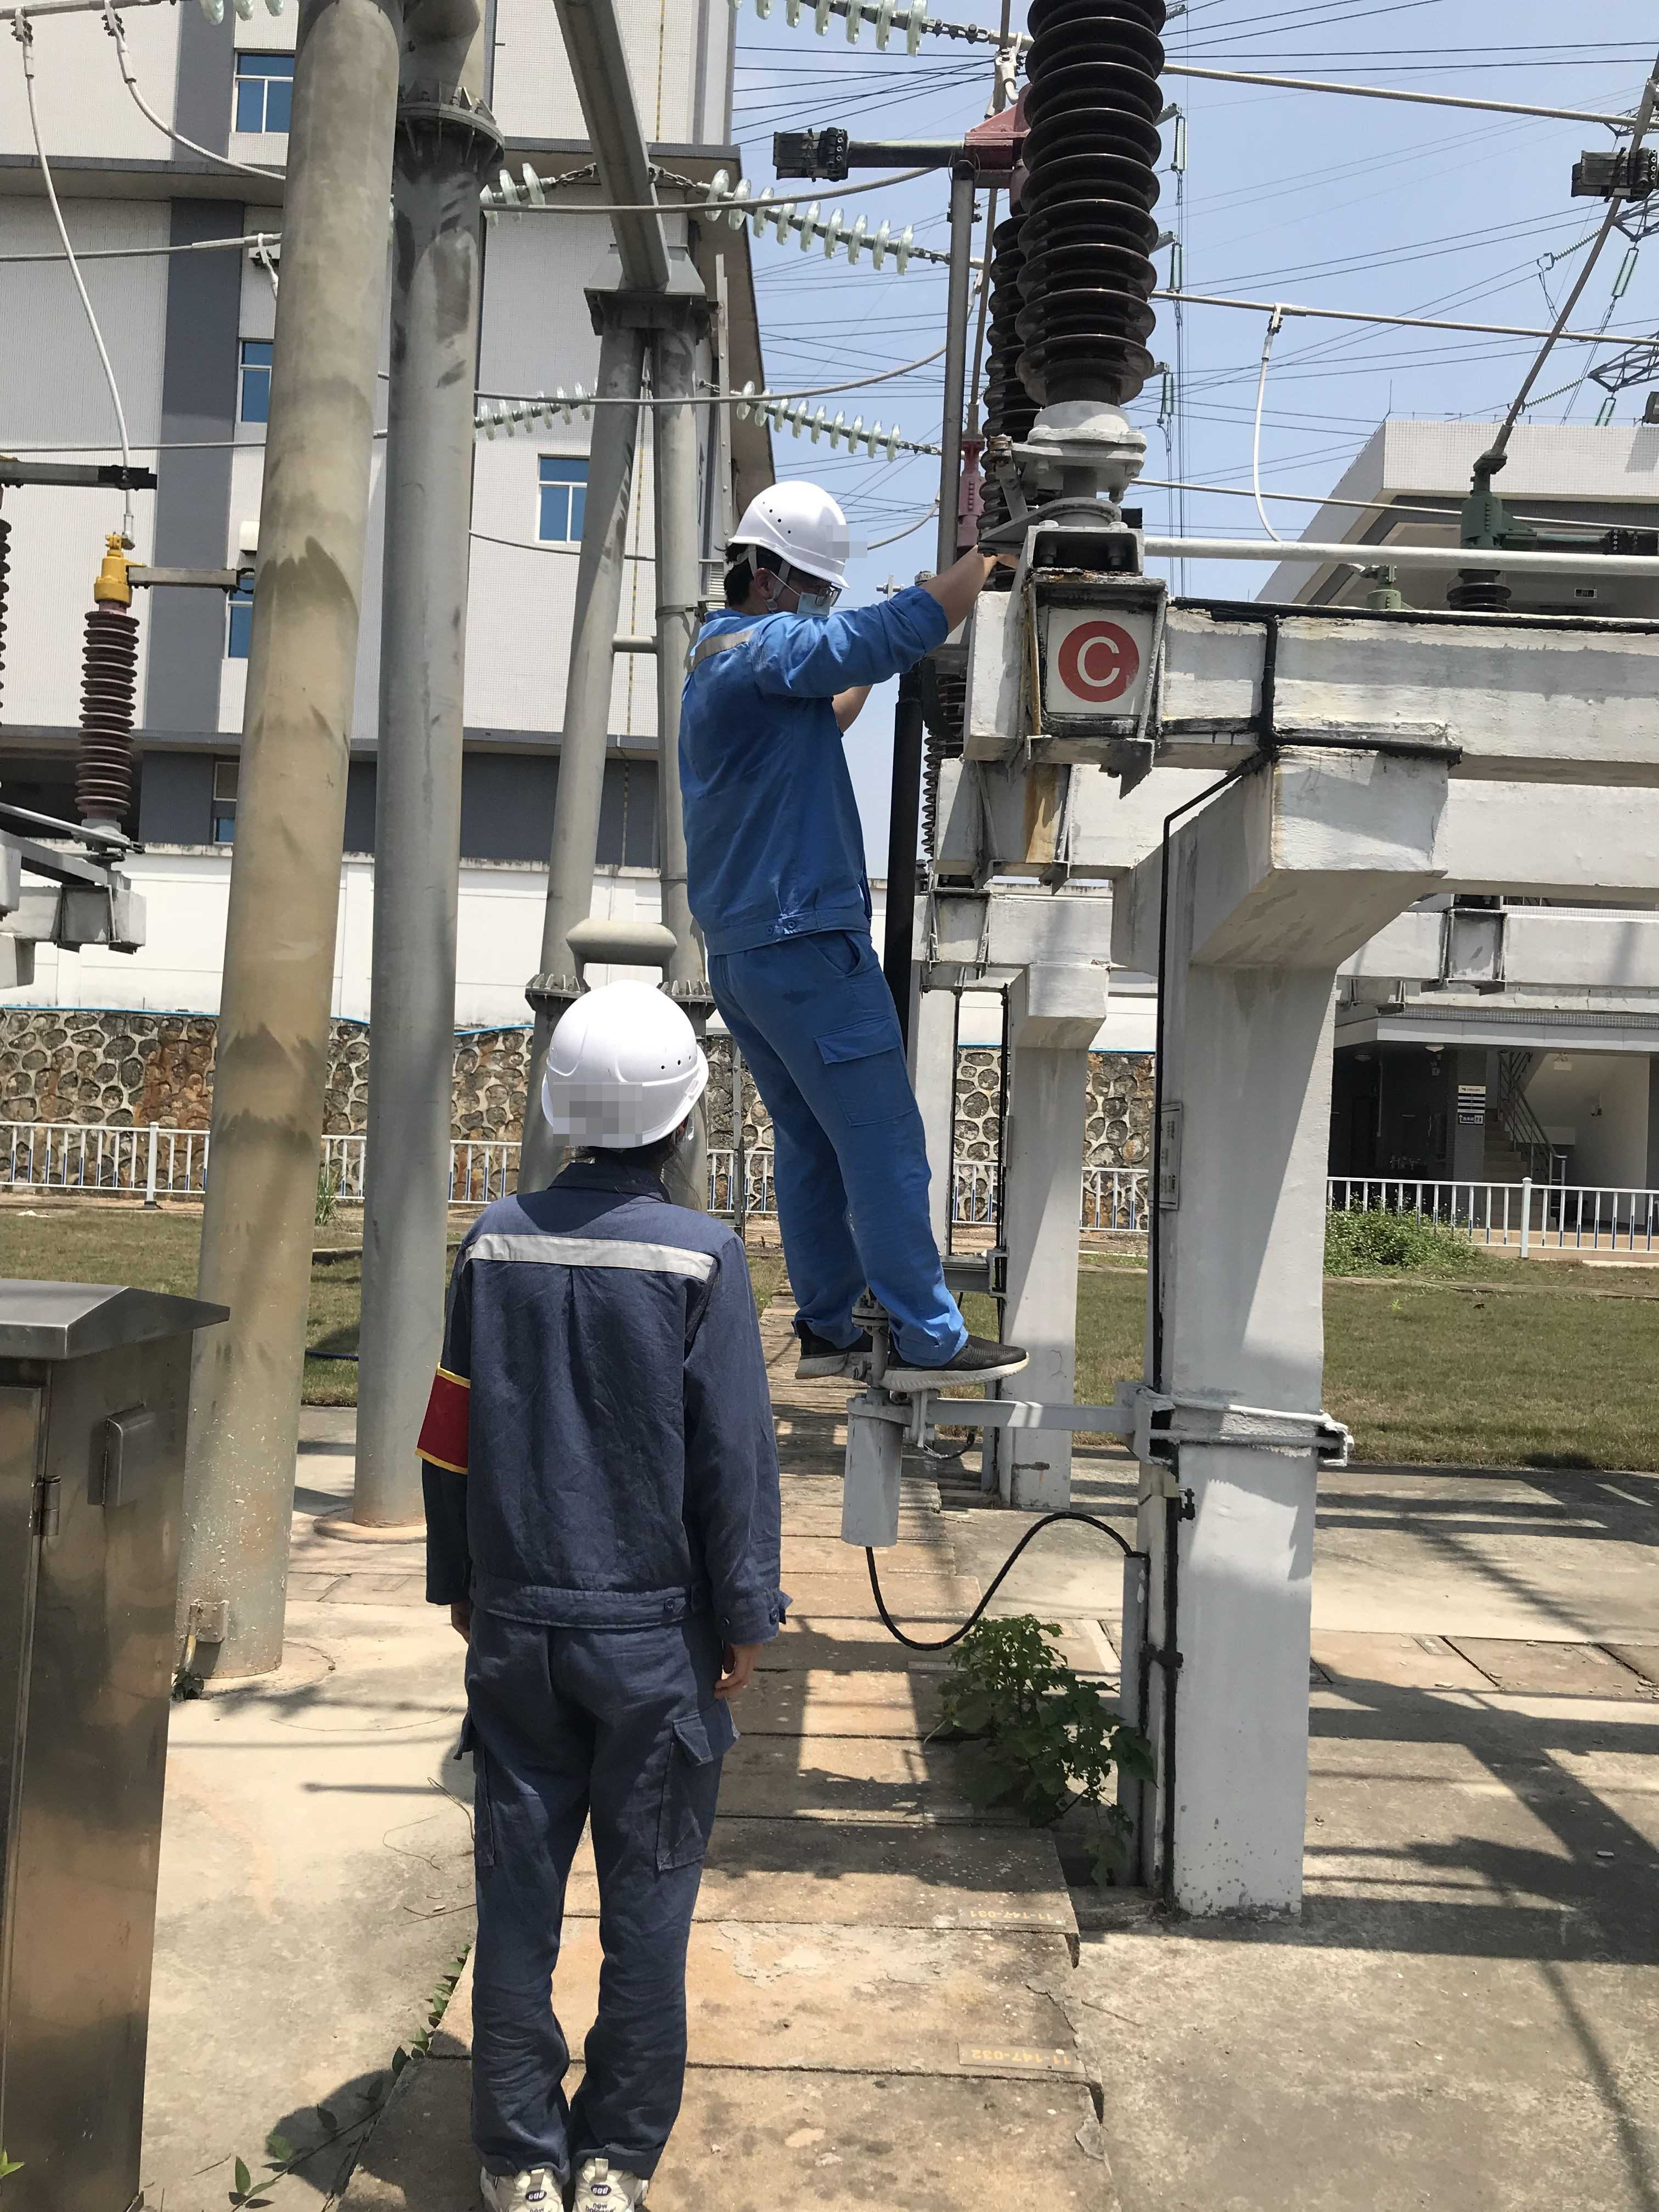downsuit: (460, 1660, 734, 2167), (725, 954, 962, 1346)
upsuit: (411, 1181, 791, 1635), (671, 582, 943, 942)
wrongtop: (894, 543, 1006, 653)
